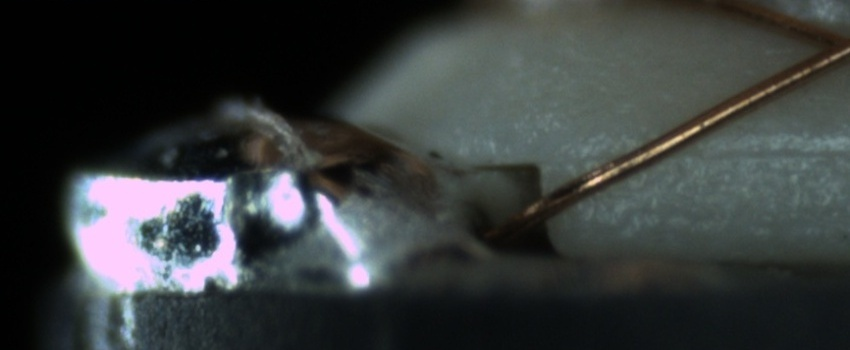CL: (796, 14, 850, 75)
DL: (633, 123, 849, 180)
